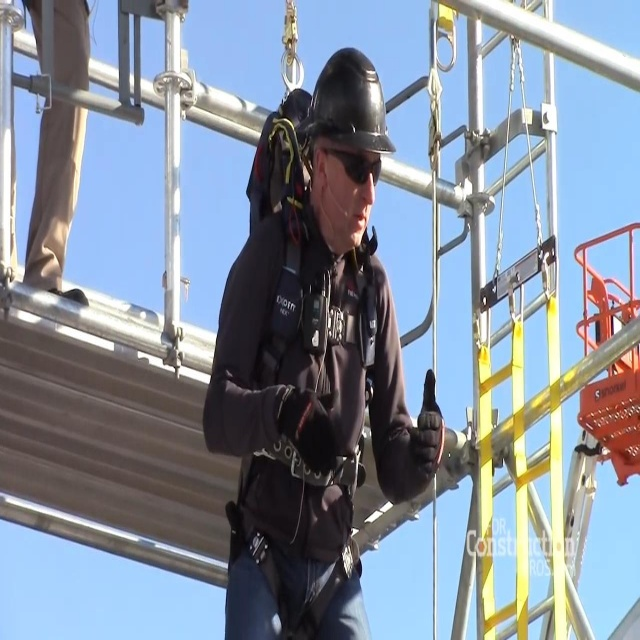Arnes_seguridad: (205, 88, 379, 615)
